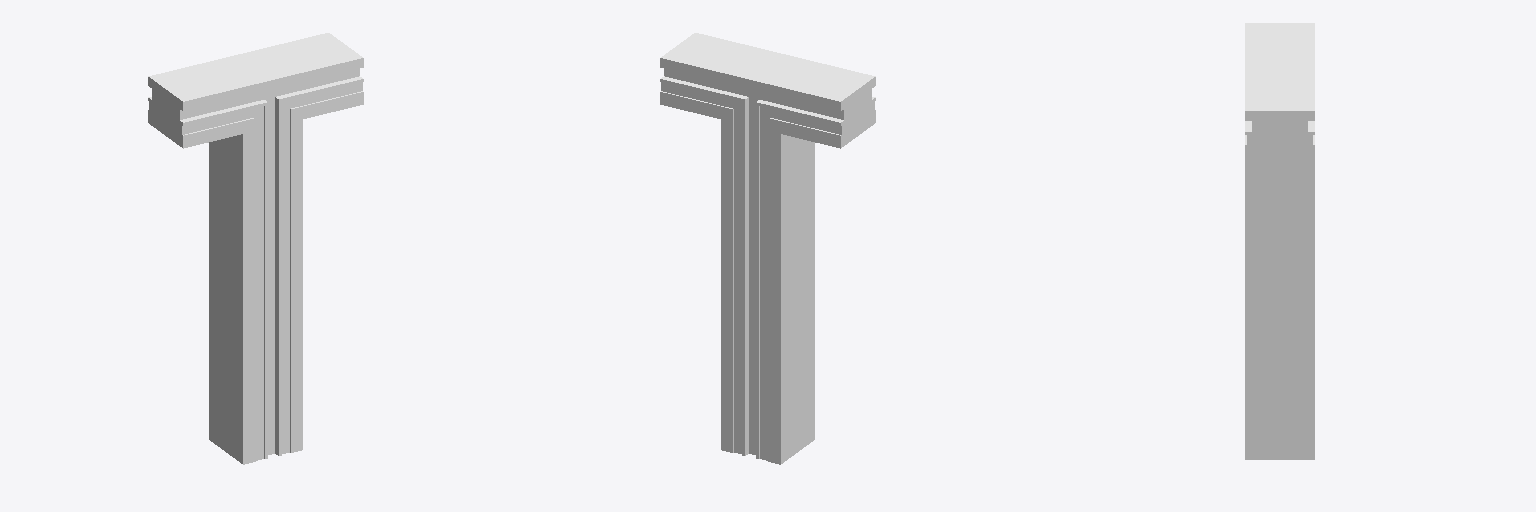
File: GloryCubeYseg1-4-Plat.obj
3 renders of one model, left to right at view 1: azimuth 30°, elevation 25°; view 2: azimuth 150°, elevation 25°; view 3: azimuth 270°, elevation 25°, orthographic.
Parts seen in each view (by area): view 1: Plat; view 2: Plat; view 3: Plat.
Boxes of the visible parts, <box> form: Plat: <box>148,33,363,464</box>; Plat: <box>660,33,875,464</box>; Plat: <box>1245,23,1314,459</box>.
Size of the model in its own units: 11.7 by 23.4 by 3.9.